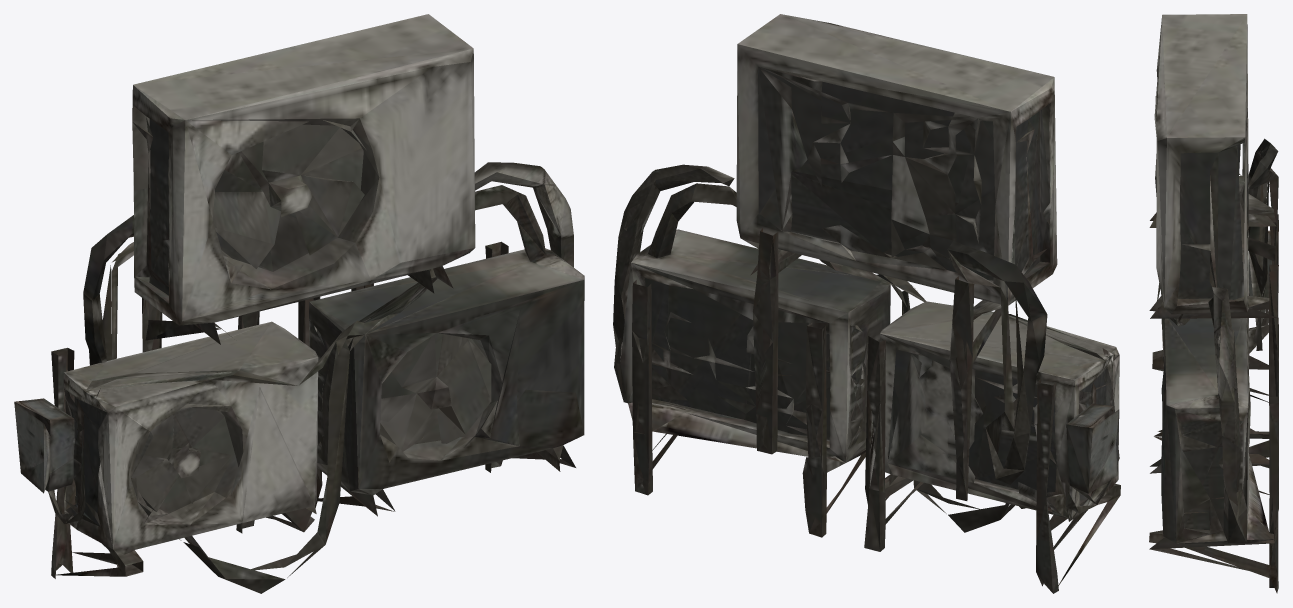
File: ncz-ac-cluster.glb
The picture shows the model from 3 angles, left to right: view 1: azimuth 30°, elevation 25°; view 2: azimuth 150°, elevation 25°; view 3: azimuth 270°, elevation 25°; orthographic projection. The views are drawn at different scales.
Visible parts, largest first — view 1: output_unwrapped; view 2: output_unwrapped; view 3: output_unwrapped.
Boxes of the visible parts, x1,y1,x2,y2 form: output_unwrapped: (14, 14, 584, 593); output_unwrapped: (613, 14, 1120, 593); output_unwrapped: (1149, 14, 1278, 593).
Size of the model in its own units: 1.89 by 1.69 by 0.4634.
1 material, 1 textured.
